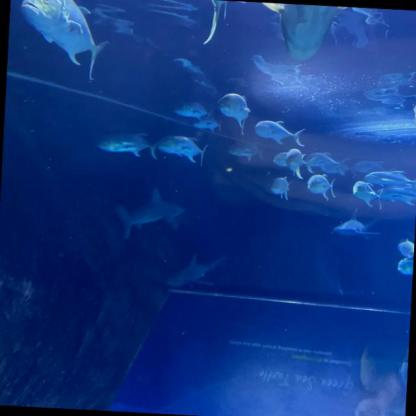fish: (12, 0, 115, 85), (244, 2, 366, 66), (202, 0, 247, 49), (97, 128, 167, 159), (157, 131, 209, 167), (216, 90, 256, 134), (251, 117, 307, 148), (352, 179, 390, 214), (301, 150, 355, 174), (362, 168, 416, 192), (370, 183, 416, 209), (305, 172, 342, 202), (171, 98, 213, 122), (286, 148, 313, 180), (190, 114, 225, 136), (270, 173, 296, 202), (272, 150, 300, 170), (395, 235, 414, 264), (396, 255, 413, 279)
shark: (117, 187, 185, 239), (168, 252, 225, 290), (331, 205, 380, 243)
